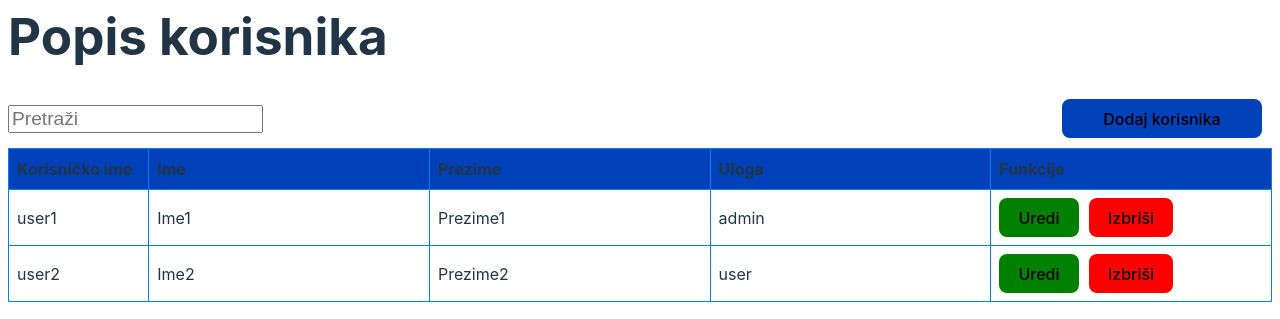
it: ListaKorisnikaAdministrator › filtrira korisnike na temelju pojma za pretraživanje
expect the text "user1" is shown: met, box [8,190,149,246]
expect the text "user2" is shown: met, box [8,246,149,302]
Type "user1" into the field with placeholder "Pretraži" at (136, 118), box [8,104,263,132]
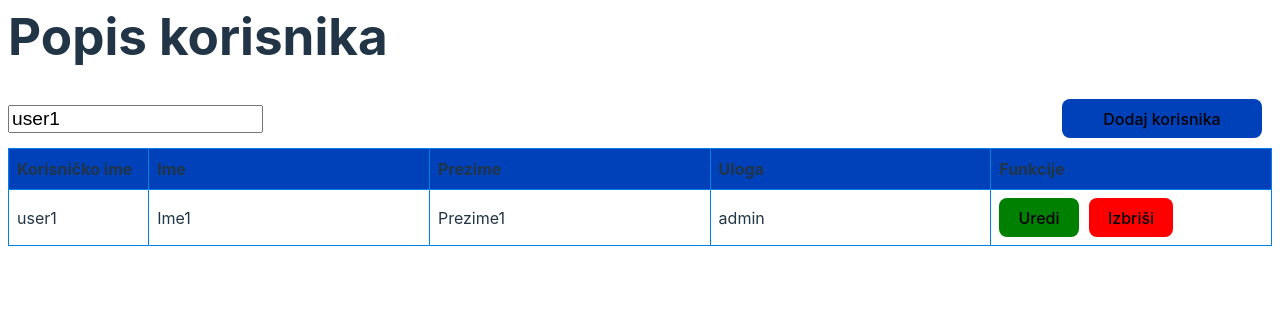
expect the text "user1" is shown: met, box [8,190,149,246]
expect the text "user2" is gone: met
